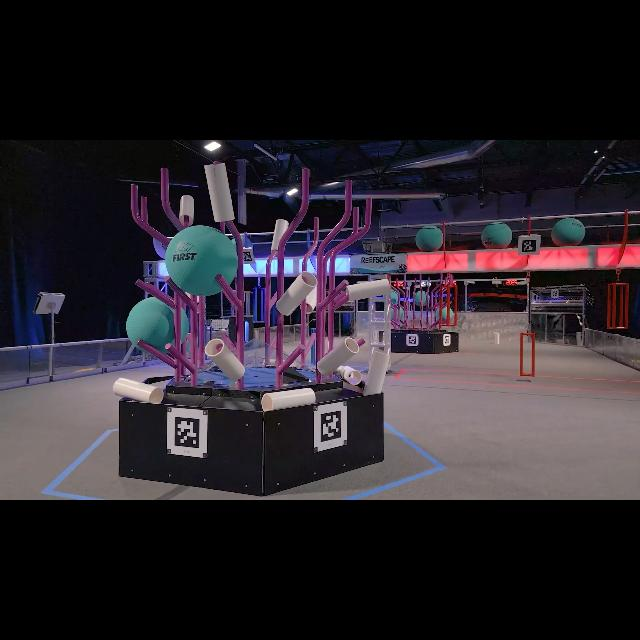ALGAE: (164, 224, 238, 296), (125, 296, 188, 354), (551, 218, 585, 246), (481, 222, 512, 248), (415, 224, 443, 252), (434, 306, 454, 322), (414, 290, 428, 306)
CORAL: (275, 270, 317, 316), (203, 162, 234, 222), (316, 336, 362, 376), (203, 338, 244, 380), (113, 376, 163, 404), (260, 387, 316, 411), (363, 350, 391, 396), (345, 278, 391, 300), (270, 220, 290, 256), (333, 364, 361, 384), (180, 196, 194, 227)
